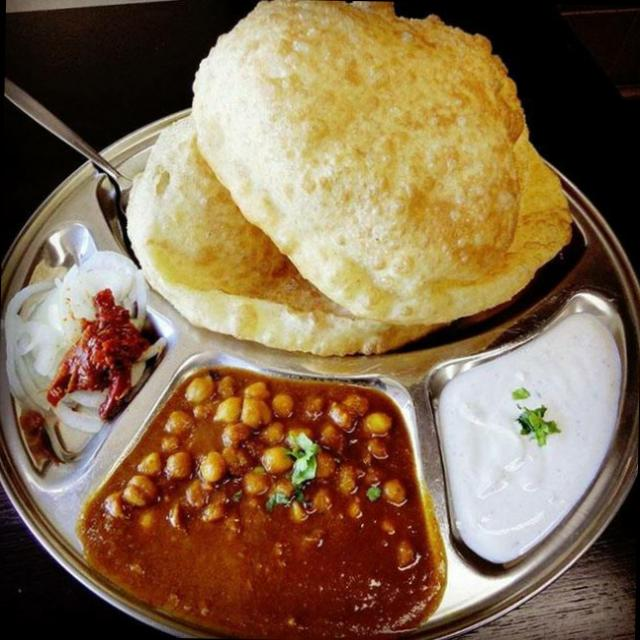Bhatura: (125, 0, 574, 361)
Chole: (117, 377, 408, 616)
